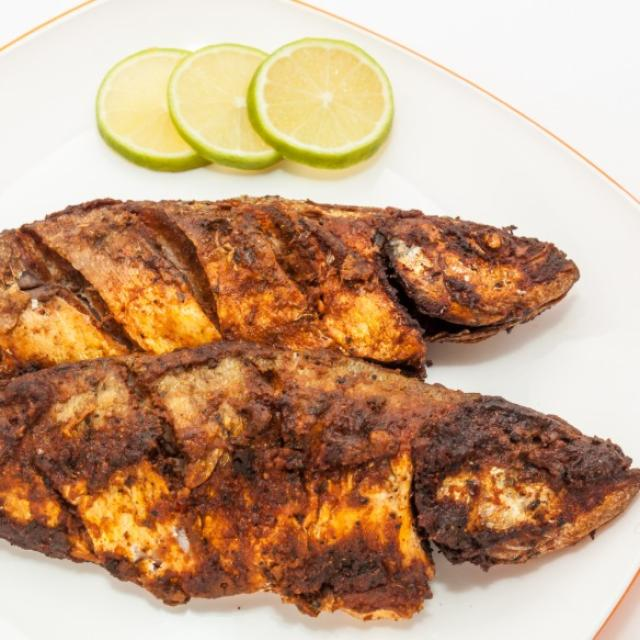FISH FRY: (0, 193, 635, 623)
